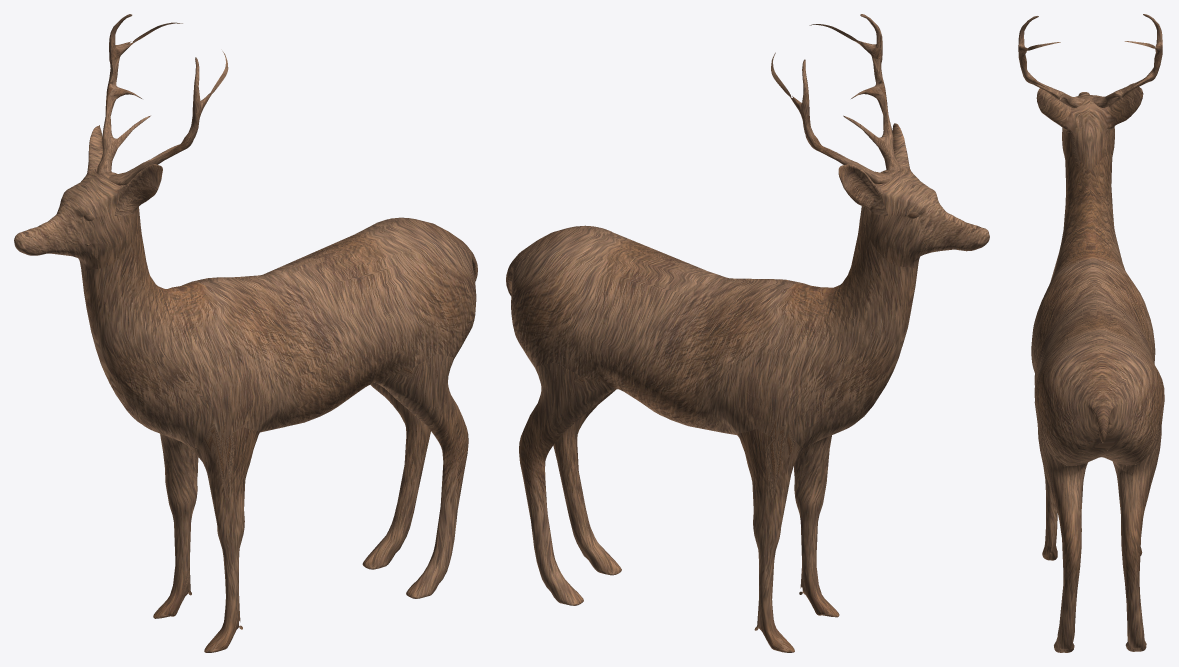
The model's file is new_deer.glb.
The picture shows the model from 3 angles, left to right: view 1: azimuth 30°, elevation 25°; view 2: azimuth 150°, elevation 25°; view 3: azimuth 270°, elevation 25°; orthographic projection. The views are drawn at different scales.
Parts seen in each view (by area): view 1: deer; view 2: deer; view 3: deer.
Boxes of the visible parts, box(x1,y1,x2,y2) form: deer: box(14, 14, 477, 652); deer: box(506, 14, 989, 652); deer: box(1018, 14, 1164, 652).
Bounding box in the file's own units: 1.74 × 2.13 × 0.5318.
Materials: 1 (1 with a texture image).
